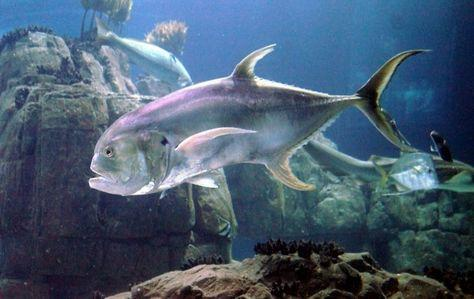fish: (87, 42, 433, 197), (302, 134, 474, 194), (92, 15, 193, 88), (373, 150, 439, 190)
